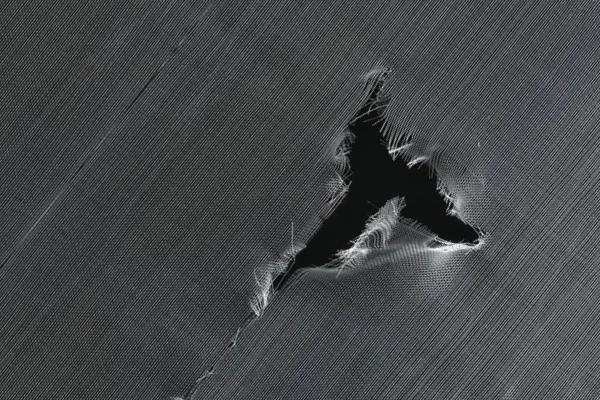hole: (261, 64, 490, 314)
